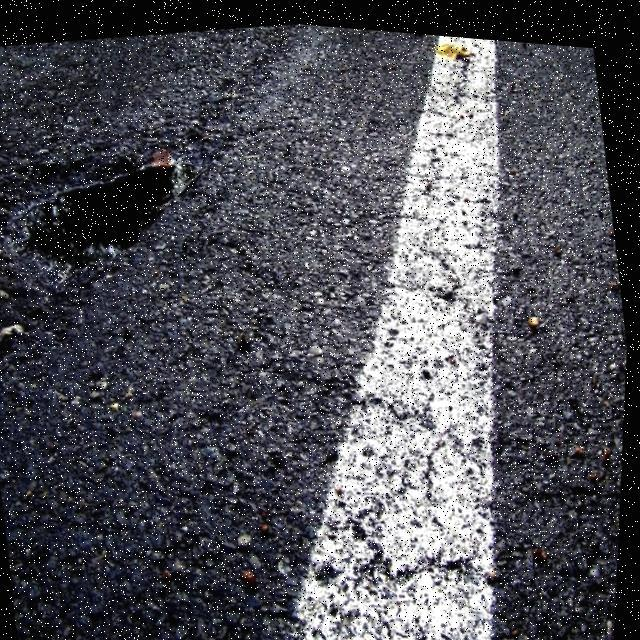pothole: (0, 110, 220, 304)
